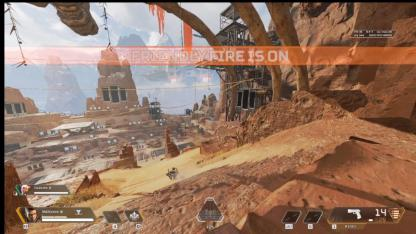Target: (166, 166, 178, 180)
